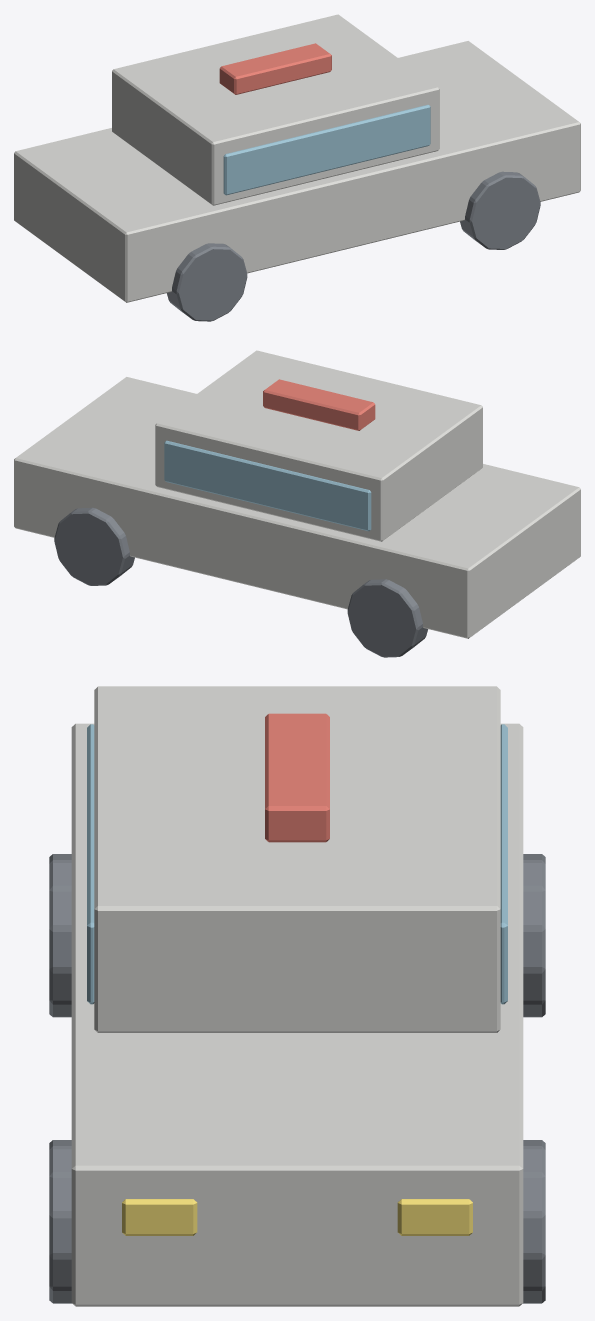
3 renders of one model, top to bottom at view 1: azimuth 30°, elevation 25°; view 2: azimuth 150°, elevation 25°; view 3: azimuth 270°, elevation 25°, orthographic. The views are drawn at different scales.
Visible parts, largest first — view 1: 车身.002, 车顶.002, 车轮.004, 车窗.002, 警灯; view 2: 车身.002, 车顶.002, 车轮.004, 车窗.002, 警灯; view 3: 车顶.002, 车身.002, 车轮.004, 警灯, 车灯.002, 车窗.002.
Boxes of the visible parts, x1=… form: 车身.002: x1=14, y1=41, x2=580, y2=302; 车顶.002: x1=112, y1=14, x2=439, y2=205; 车轮.004: x1=167, y1=171, x2=540, y2=321; 车窗.002: x1=223, y1=104, x2=430, y2=195; 警灯: x1=219, y1=43, x2=331, y2=94; 车身.002: x1=14, y1=377, x2=580, y2=638; 车顶.002: x1=155, y1=350, x2=482, y2=541; 车轮.004: x1=54, y1=507, x2=427, y2=657; 车窗.002: x1=164, y1=440, x2=371, y2=531; 警灯: x1=263, y1=379, x2=375, y2=430; 车顶.002: x1=94, y1=686, x2=500, y2=1032; 车身.002: x1=71, y1=723, x2=523, y2=1306; 车轮.004: x1=49, y1=854, x2=545, y2=1303; 警灯: x1=265, y1=713, x2=329, y2=842; 车灯.002: x1=122, y1=1199, x2=472, y2=1235; 车窗.002: x1=87, y1=724, x2=507, y2=1004.
Bounding box in the file's own units: 422 × 164 × 198.
